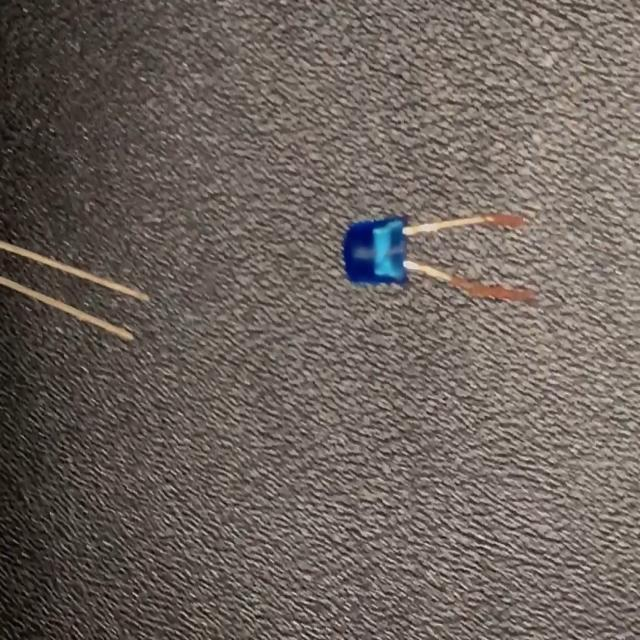LED: (341, 210, 539, 313)
rust: (446, 269, 537, 309), (477, 214, 528, 232)
